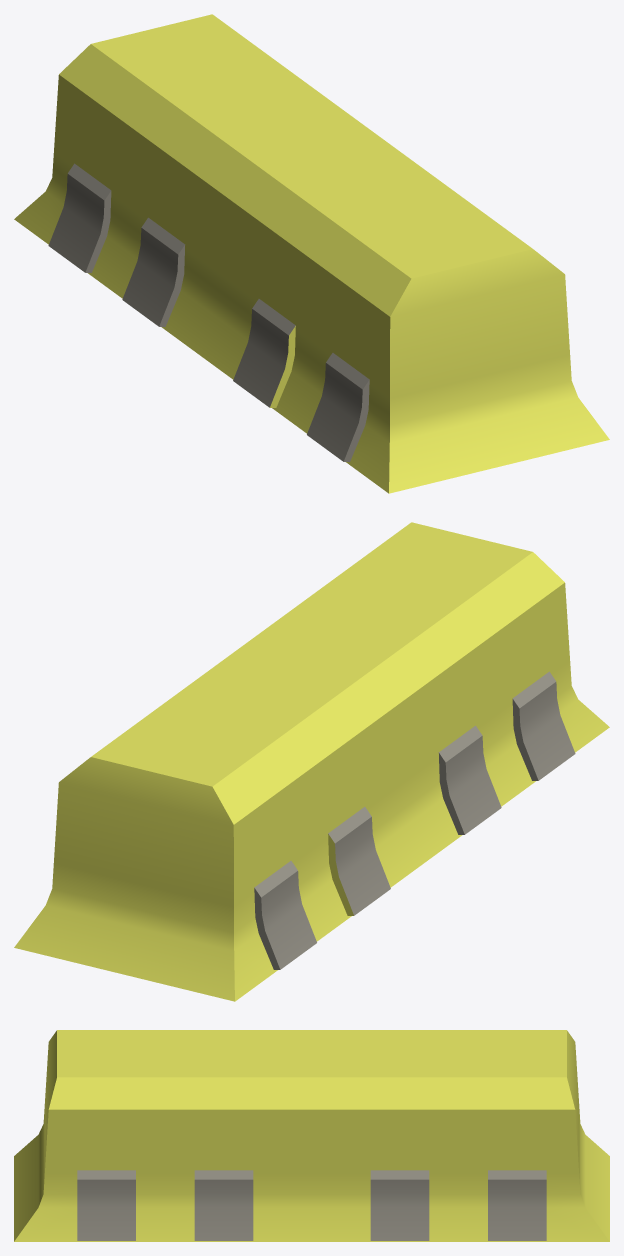
The model's file is thegreatwall.fbx.
3 views of the same model, one above another, from view 1: azimuth 30°, elevation 25°; view 2: azimuth 150°, elevation 25°; view 3: azimuth 270°, elevation 25° (orthographic). The views are drawn at different scales.
Visible parts, largest first — view 1: Cube; view 2: Cube; view 3: Cube.
Part boxes in pixels (box(x1,y1,x2,y2)): Cube: box(14, 14, 609, 493); Cube: box(14, 522, 609, 1001); Cube: box(14, 1030, 609, 1241).
Size of the model in its own units: 133 by 100 by 371.
